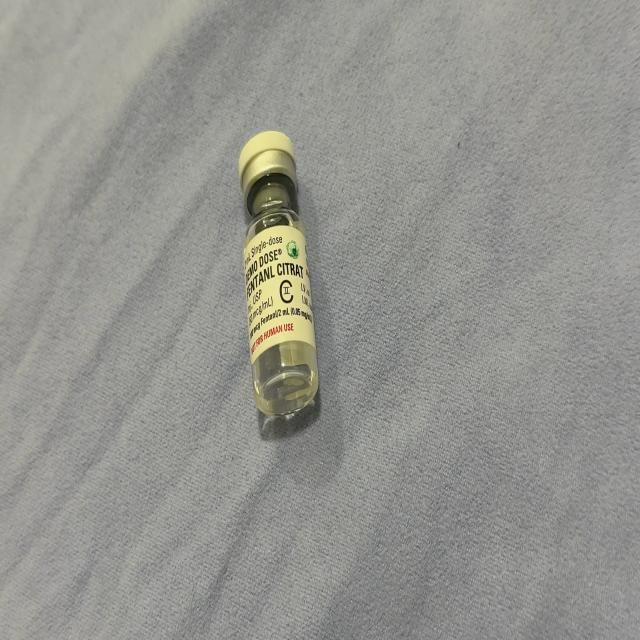fentanl_citrat: (239, 136, 318, 415)
